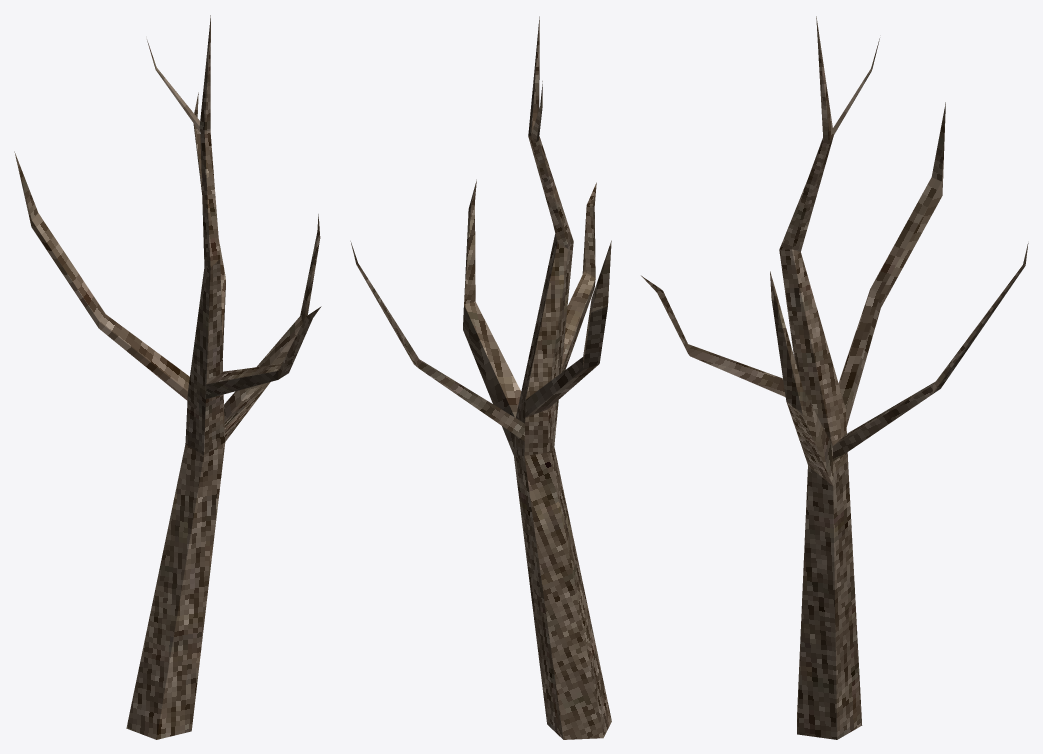
File: DeadTree1.fbx
3 views of the same model, side by side, from view 1: azimuth 30°, elevation 25°; view 2: azimuth 150°, elevation 25°; view 3: azimuth 270°, elevation 25° (orthographic). The views are drawn at different scales.
Parts seen in each view (by area): view 1: Cone; view 2: Cone; view 3: Cone.
Boxes of the visible parts, x1=… form: Cone: x1=14, y1=15, x2=321, y2=739; Cone: x1=350, y1=16, x2=611, y2=739; Cone: x1=641, y1=16, x2=1028, y2=739.
Bounding box in the file's own units: 565 × 1687 × 807.
1 material, 1 textured.
